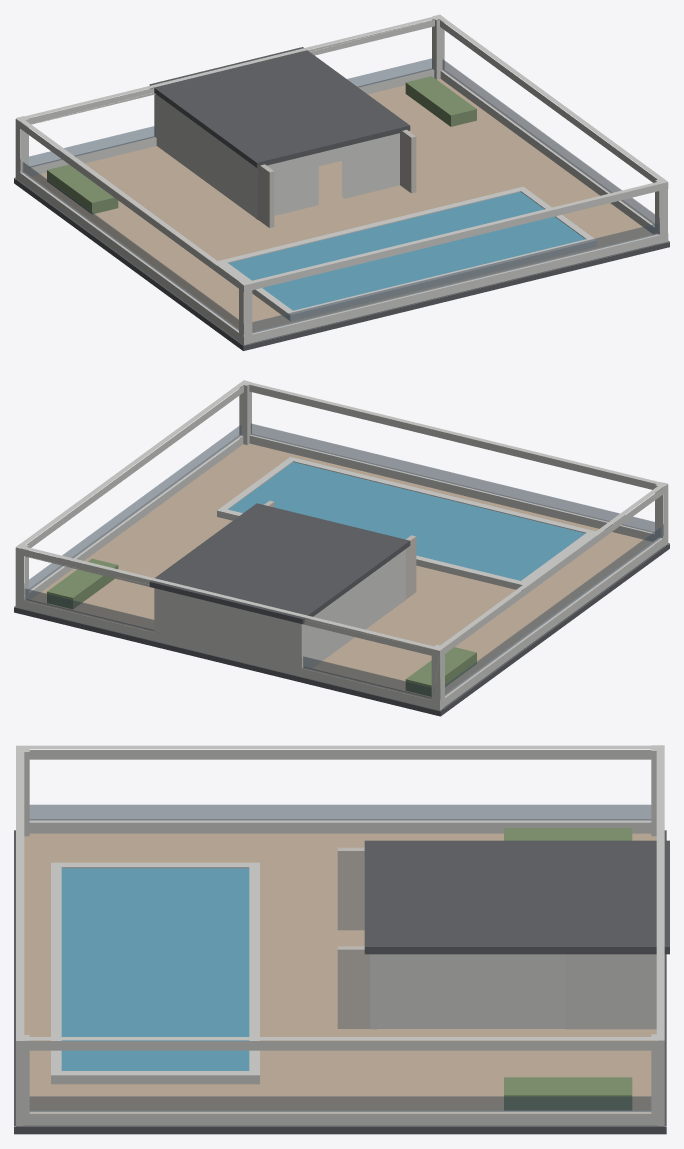
File: condo-roof-b.gaps-v1.lod0.glb
The picture shows the model from 3 angles, top to bottom: view 1: azimuth 30°, elevation 25°; view 2: azimuth 150°, elevation 25°; view 3: azimuth 270°, elevation 25°; orthographic projection. The views are drawn at different scales.
Visible parts, largest first — view 1: condo-roof-b; view 2: condo-roof-b; view 3: condo-roof-b.
Part boxes in pixels (box(x1,y1,x2,y2)): condo-roof-b: box(14, 14, 669, 350); condo-roof-b: box(14, 380, 669, 716); condo-roof-b: box(14, 745, 669, 1134).
Size of the model in its own units: 26.16 by 3.86 by 24.48.
